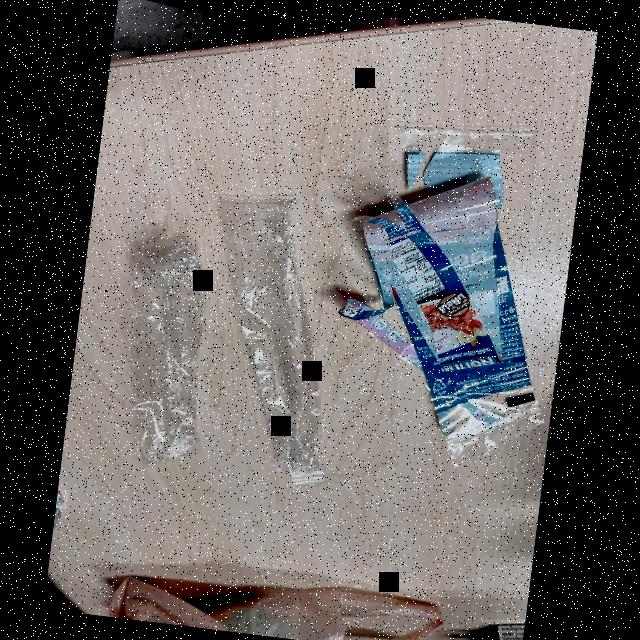scrap_plastic: (323, 104, 584, 483), (195, 180, 364, 494), (100, 203, 234, 474)
